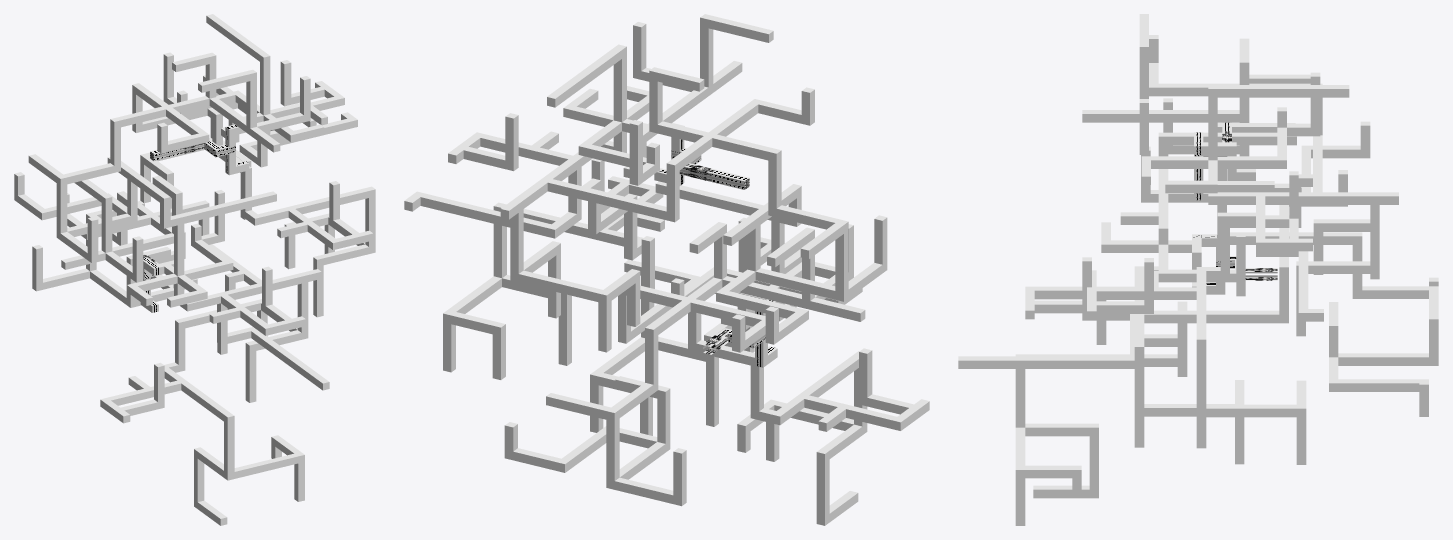
The model's file is mazebig.fbx.
3 renders of one model, left to right at view 1: azimuth 30°, elevation 25°; view 2: azimuth 150°, elevation 25°; view 3: azimuth 270°, elevation 25°, orthographic. The views are drawn at different scales.
Visible parts, largest first — view 1: bigmaze; view 2: bigmaze; view 3: bigmaze.
Boxes of the visible parts, x1,y1,x2,y2 form: bigmaze: [14, 14, 375, 525]; bigmaze: [404, 14, 929, 525]; bigmaze: [958, 14, 1438, 525].
Bounding box in the file's own units: 97.12 × 115 × 101.
